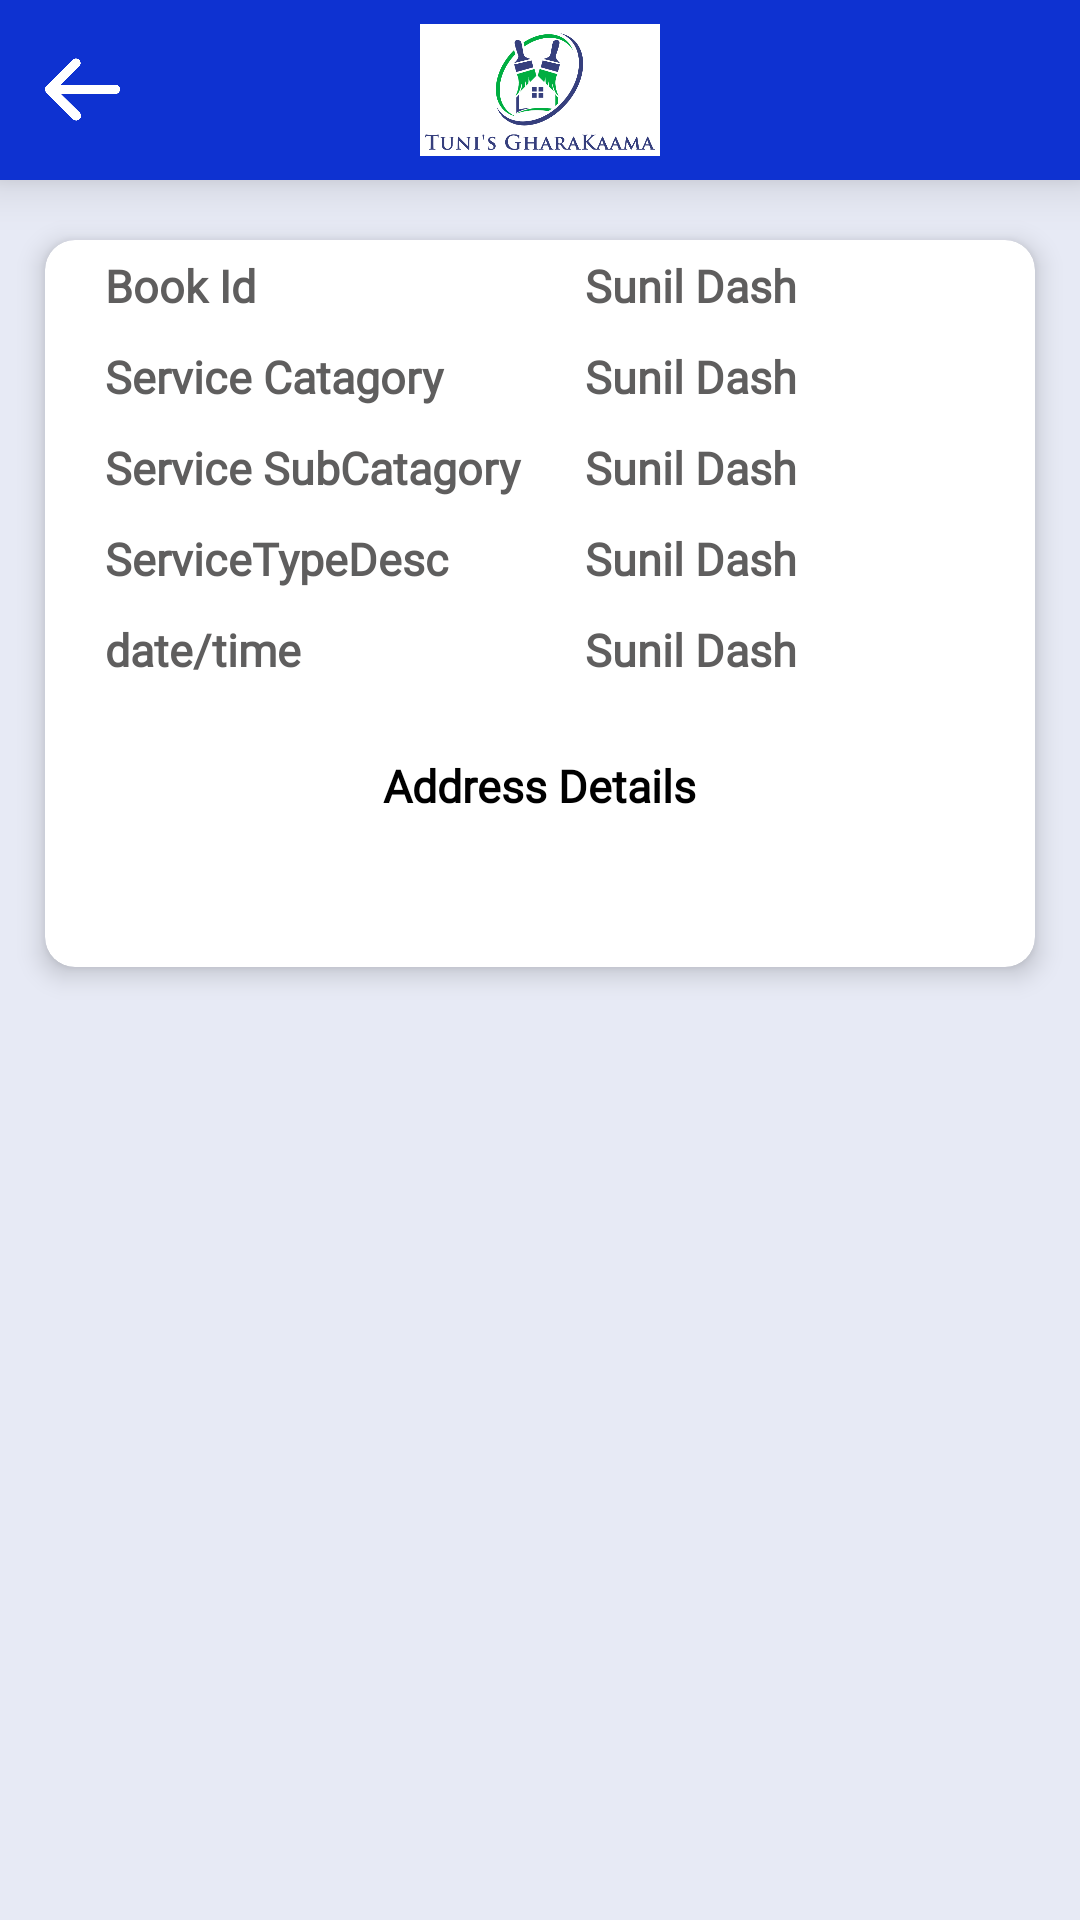

Where icons sit on this 1080px×1920px app screen, as (x1, y1, x2, y2):
arrow left: (45, 58, 120, 121)
